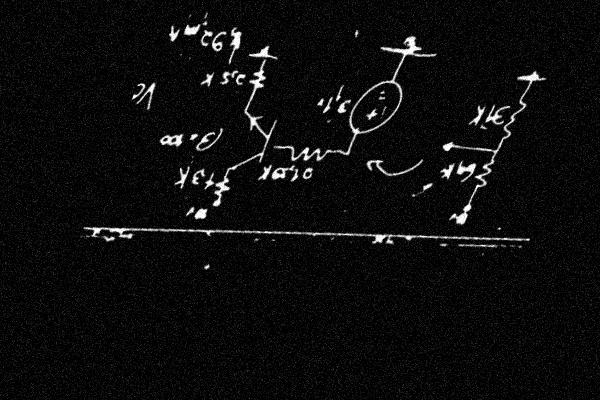ground: (376, 30, 445, 67), (245, 41, 286, 70), (512, 64, 552, 92)
resistor: (495, 89, 533, 151), (278, 138, 340, 170), (467, 153, 501, 197), (242, 61, 273, 100), (209, 170, 238, 202)
voltage: (338, 67, 414, 148)
